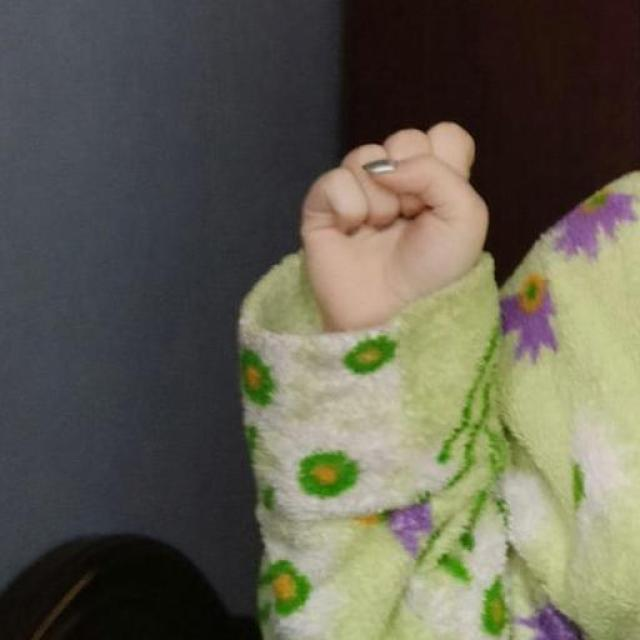hand: (298, 119, 490, 331)
